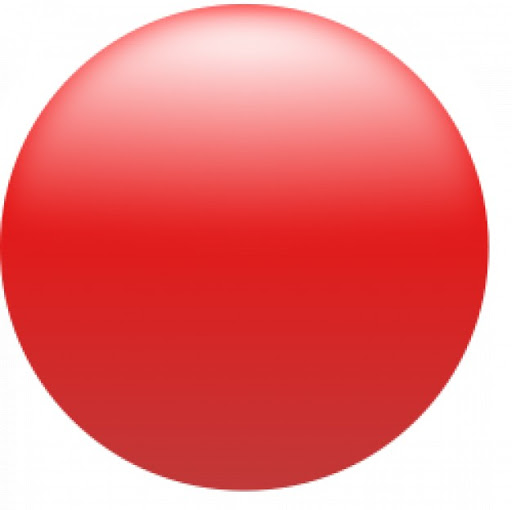circulo: (1, 5, 491, 493)
